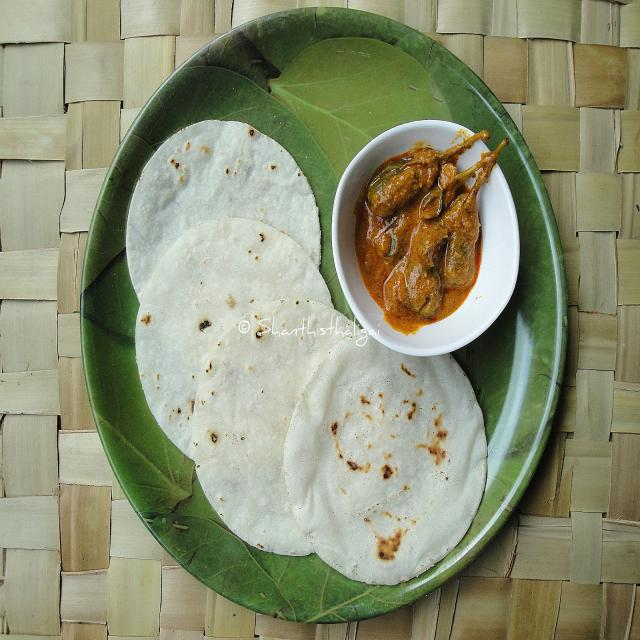RICE BHAKRI: (139, 220, 486, 583), (136, 218, 352, 552)
